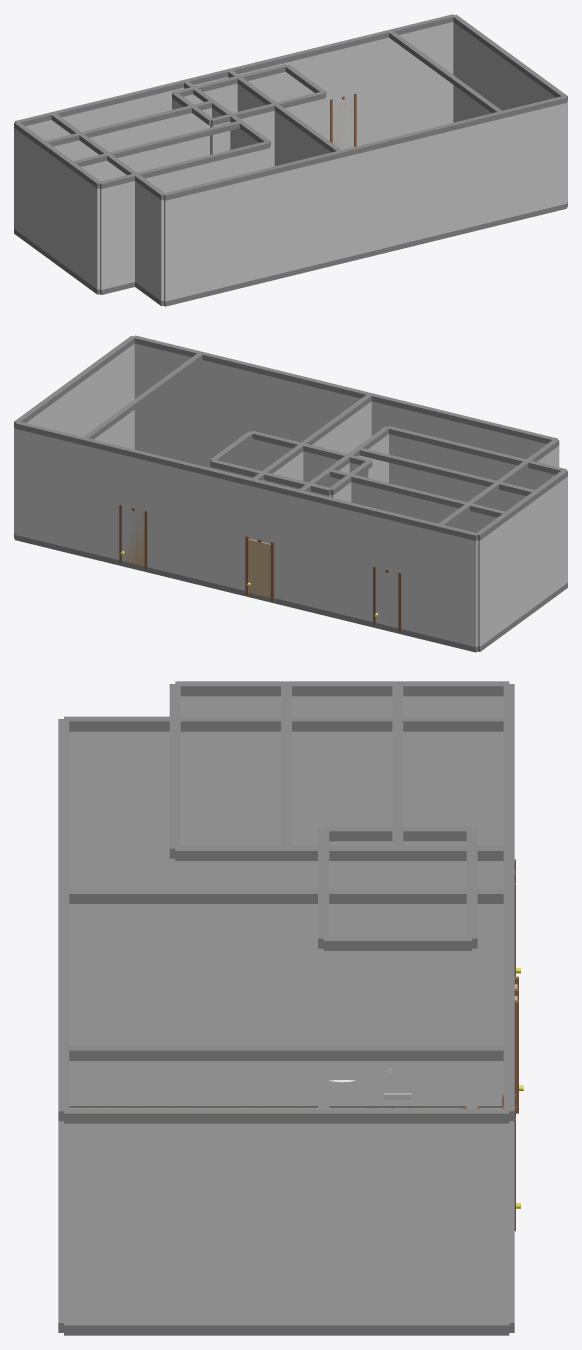
Rendered from room_model.glb.
3 views of the same model, one above another, from view 1: azimuth 30°, elevation 25°; view 2: azimuth 150°, elevation 25°; view 3: azimuth 270°, elevation 25° (orthographic). The views are drawn at different scales.
Visible parts, largest first — view 1: Living Room Bottom Wall, Back Wall, Front Wall, Living Room Top Wall, Kitchen Bottom Wall, Bedroom Left Wall, Living Room Right Wall, Kitchen Top Wall, Kitchen Left Wall, Left Wall, Front Wall_Top_Trim, Back Wall_Top_Trim (+23 smaller); view 2: Front Wall, Back Wall, Living Room Top Wall, Living Room Bottom Wall, Bedroom Top Wall, Bedroom Left Wall, Kitchen Bottom Wall, Living Room Right Wall, Kitchen Left Wall, Front Wall_Top_Trim, Back Wall_Top_Trim, Kitchen Top Wall (+23 smaller); view 3: Living Room Right Wall, Living Room Left Wall, Kitchen Left Wall, Left Wall, Bedroom Left Wall, Living Room Right Wall_Top_Trim, Left Wall_Top_Trim, Right Wall_Top_Trim, Living Room Left Wall_Top_Trim, Kitchen Right Wall, Living Room Right Wall_Bottom_Trim, Back Wall_Top_Trim (+21 smaller).
Part boxes in pixels (x1,y1,x2,y2): Living Room Bottom Wall: [342, 103, 566, 258]; Back Wall: [164, 119, 502, 301]; Front Wall: [54, 37, 391, 149]; Living Room Top Wall: [239, 22, 453, 147]; Kitchen Bottom Wall: [100, 148, 269, 289]; Bedroom Left Wall: [14, 128, 69, 268]; Living Room Right Wall: [453, 22, 567, 202]; Kitchen Top Wall: [53, 108, 211, 181]; Kitchen Left Wall: [41, 148, 99, 289]; Left Wall: [135, 181, 163, 301]; Front Wall_Top_Trim: [51, 30, 390, 117]; Back Wall_Top_Trim: [163, 111, 502, 200]; Front Wall: [82, 445, 437, 637]; Back Wall: [200, 360, 546, 467]; Living Room Top Wall: [15, 428, 249, 590]; Living Room Bottom Wall: [134, 343, 359, 467]; Bedroom Top Wall: [298, 501, 477, 647]; Bedroom Left Wall: [477, 498, 538, 646]; Kitchen Bottom Wall: [389, 434, 555, 511]; Living Room Right Wall: [14, 344, 134, 533]; Kitchen Left Wall: [538, 476, 567, 603]; Front Wall_Top_Trim: [82, 438, 440, 531]; Back Wall_Top_Trim: [200, 352, 557, 443]; Kitchen Top Wall: [327, 477, 496, 532]; Living Room Right Wall: [64, 1123, 509, 1325]; Living Room Left Wall: [69, 904, 503, 1105]; Kitchen Left Wall: [180, 696, 392, 845]; Left Wall: [69, 731, 169, 889]; Bedroom Left Wall: [403, 696, 503, 845]; Living Room Right Wall_Top_Trim: [64, 1109, 509, 1123]; Left Wall_Top_Trim: [64, 716, 509, 731]; Right Wall_Top_Trim: [64, 1046, 508, 1060]; Living Room Left Wall_Top_Trim: [69, 889, 503, 903]; Kitchen Right Wall: [175, 861, 397, 889]; Living Room Right Wall_Bottom_Trim: [64, 1325, 509, 1335]; Back Wall_Top_Trim: [58, 719, 69, 1048].
Size of the model in its own units: 18.37 by 4.4 by 8.36.
14 materials, 1 textured.
